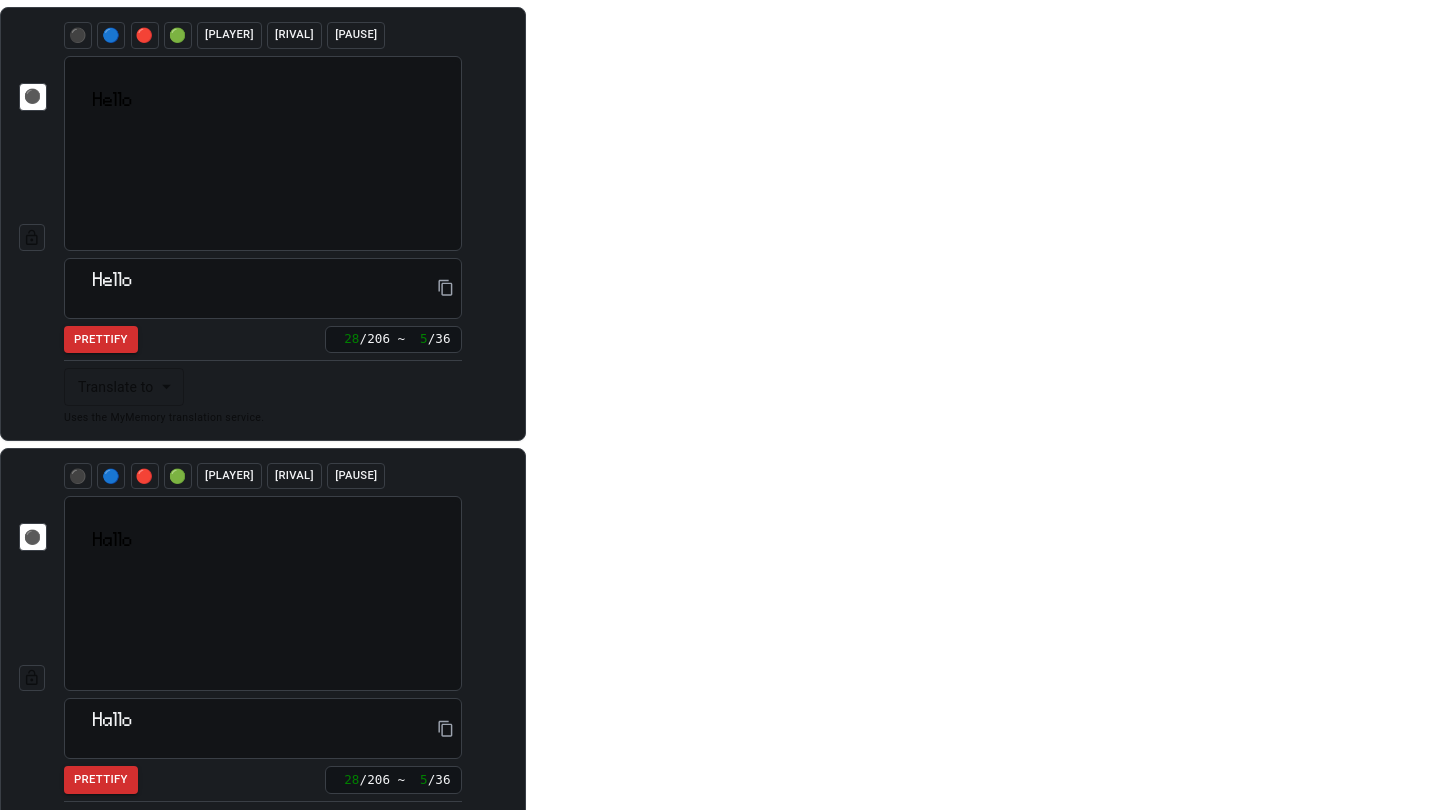
Test case: Editors rendered together have unique control ids › each prettify dialog is labelled by its own editor ids
The width and height of the screenshot is (1440, 810).
Click the button with test id "prettify-button" below "Hello" at (101, 339), box top-left (64, 326), bottom-right (138, 353)
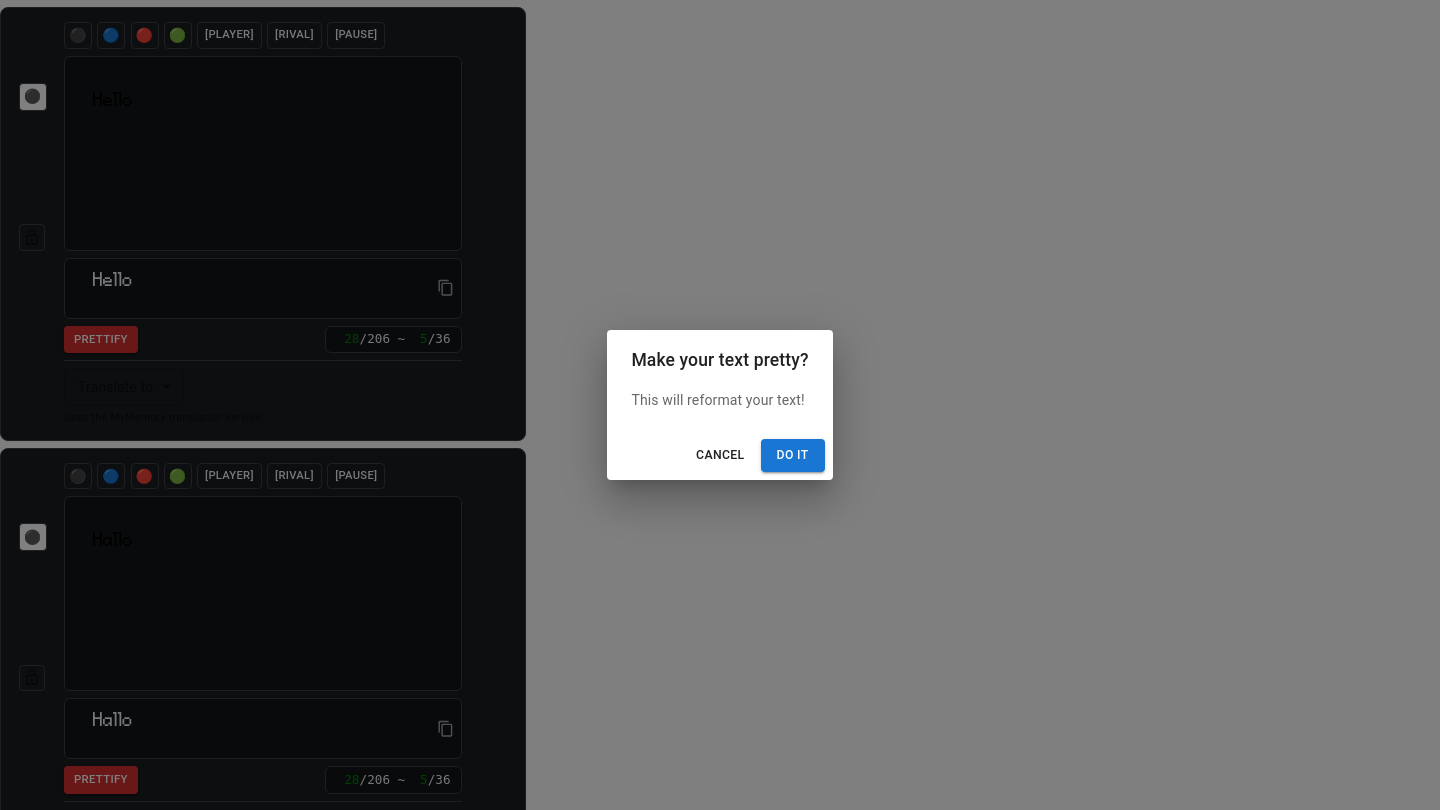
Now the heading "Make your text pretty?" is shown, box top-left (631, 350), bottom-right (808, 370)
Now the text "This will reformat your text!" is shown, box top-left (631, 390), bottom-right (808, 411)
Click the button "Cancel" at (720, 456), box top-left (688, 439), bottom-right (752, 472)
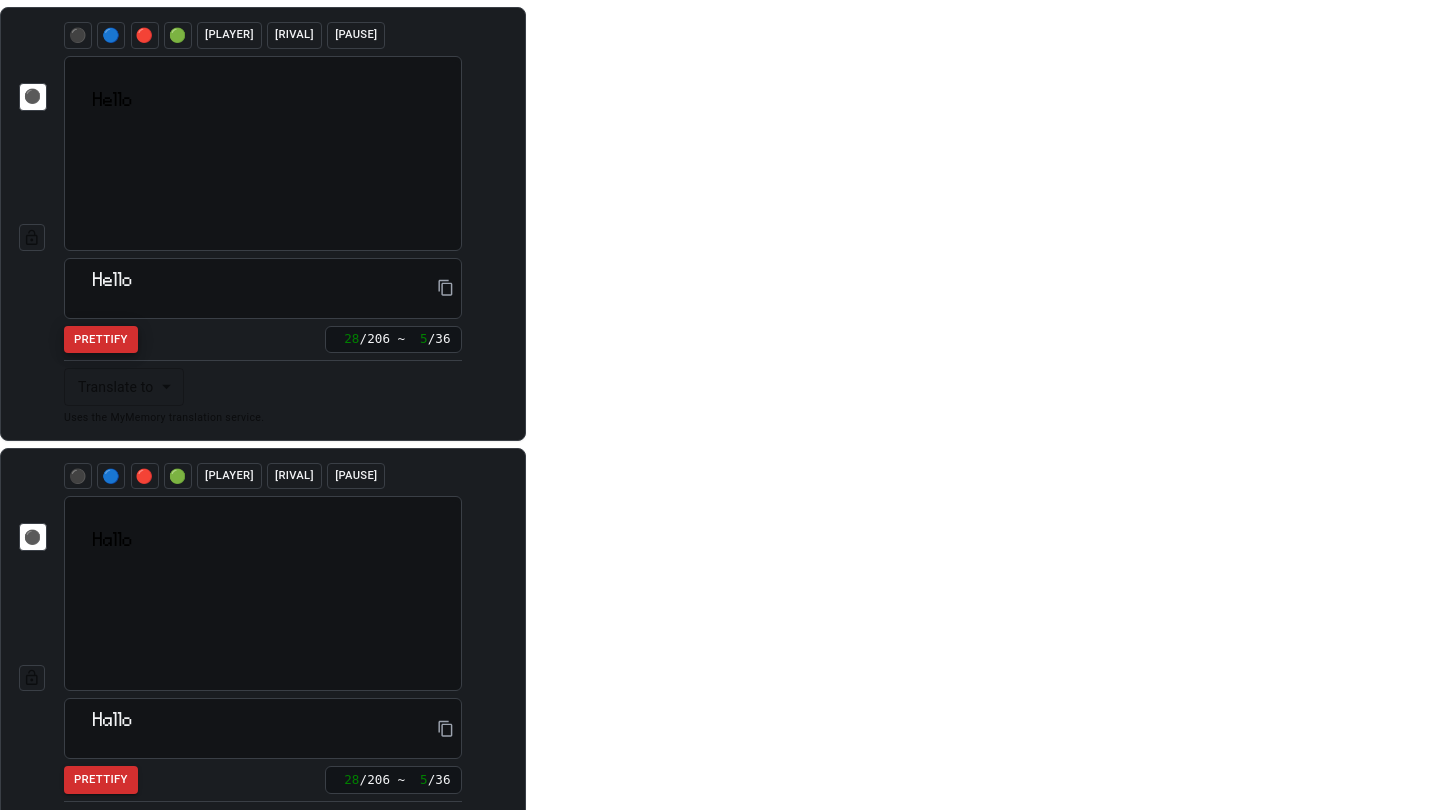
Now the dialog is gone
Click the button with test id "translation-prettify-button" at (101, 780), box top-left (64, 766), bottom-right (138, 794)
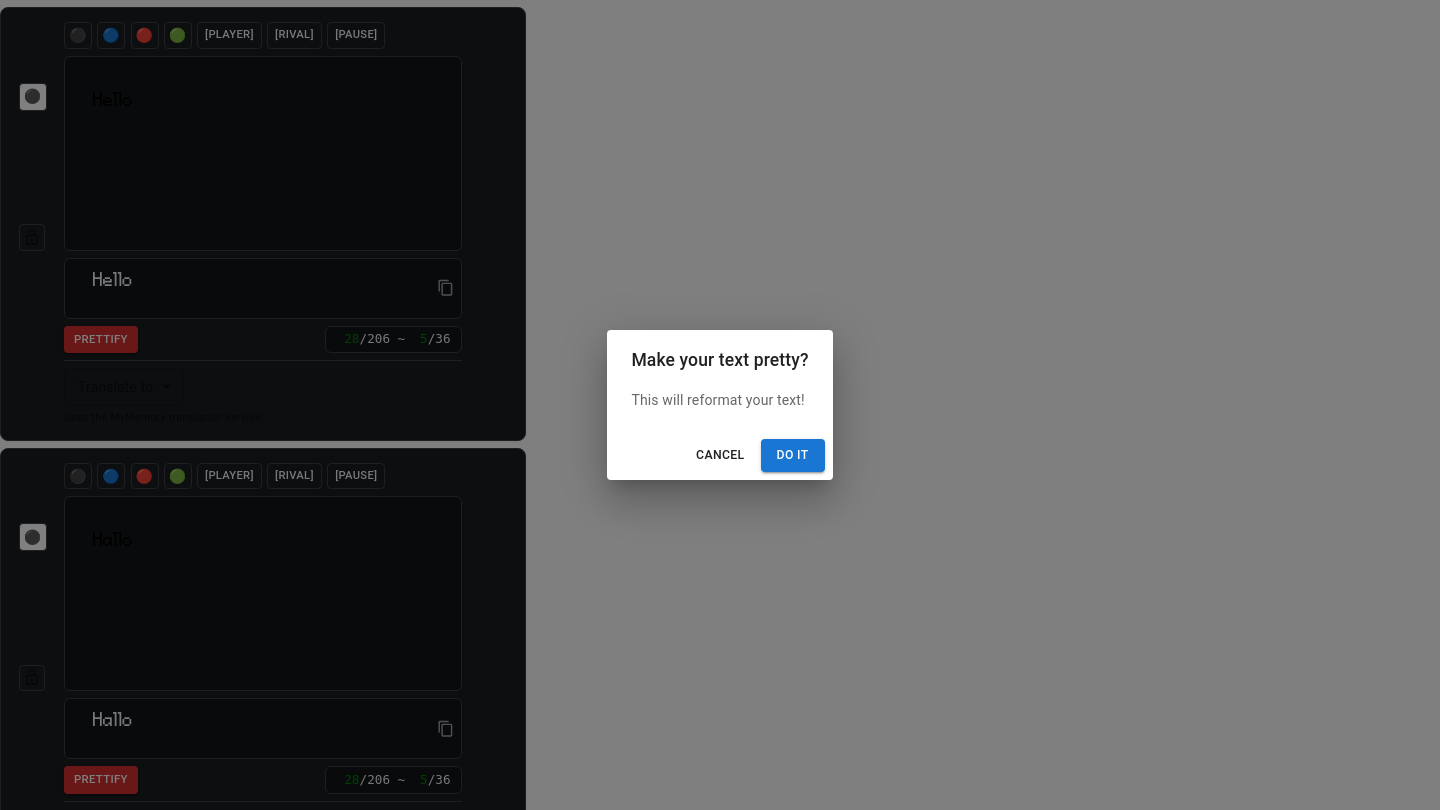
Now the heading with id "translation-prettify-dialog-title" reads "Make your text pretty?", box top-left (631, 350), bottom-right (808, 370)
Now the text with id "translation-prettify-dialog-description" reads "This will reformat your text!", box top-left (631, 392), bottom-right (805, 408)
Click the button "Cancel" at (720, 456), box top-left (688, 439), bottom-right (752, 472)
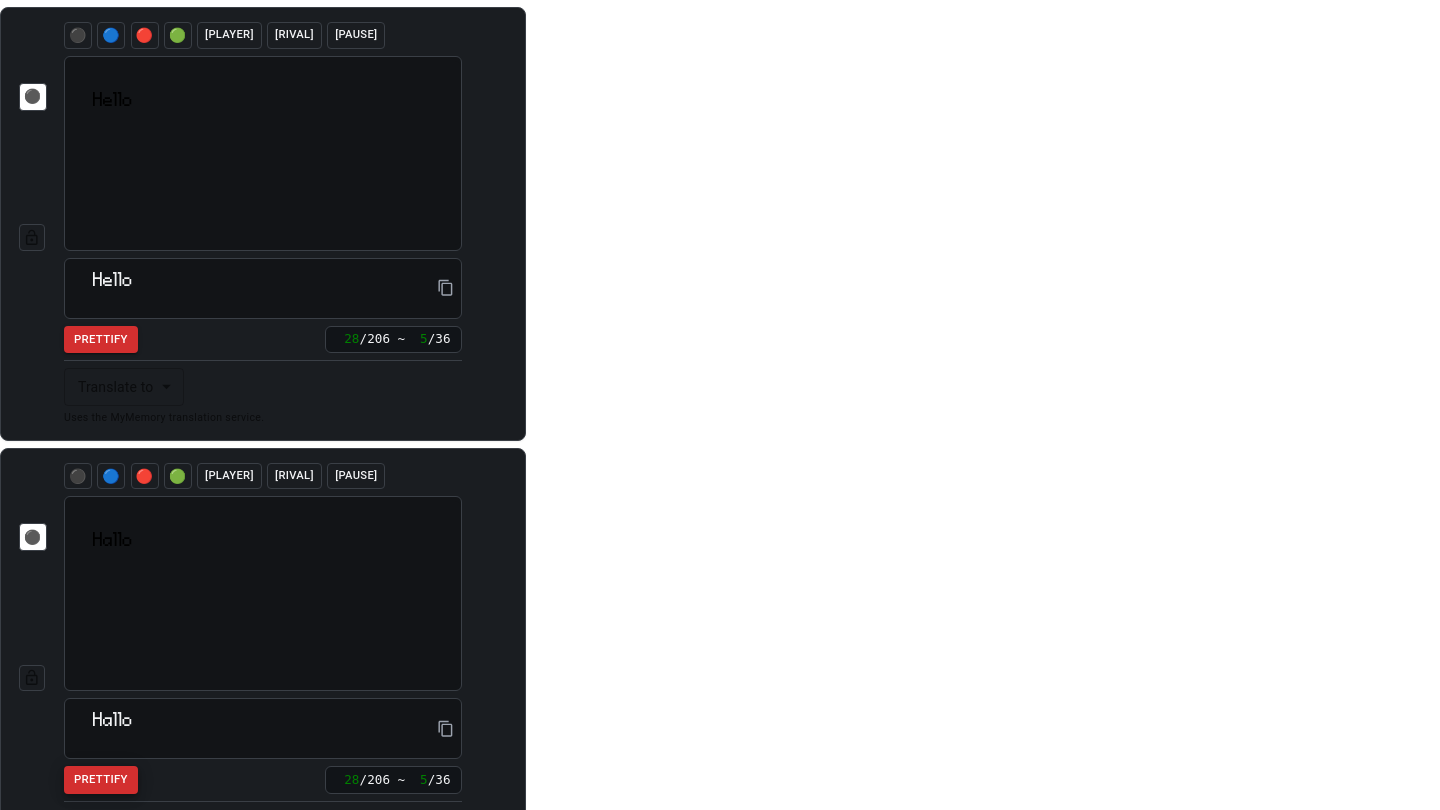
Now the dialog is gone
